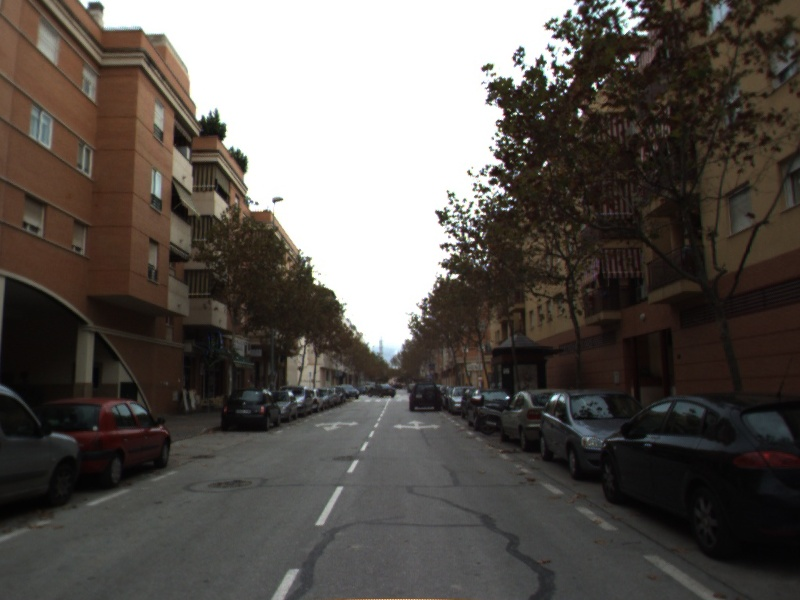STRAIGHT_LEFT_RIGHT: (392, 418, 442, 432)
